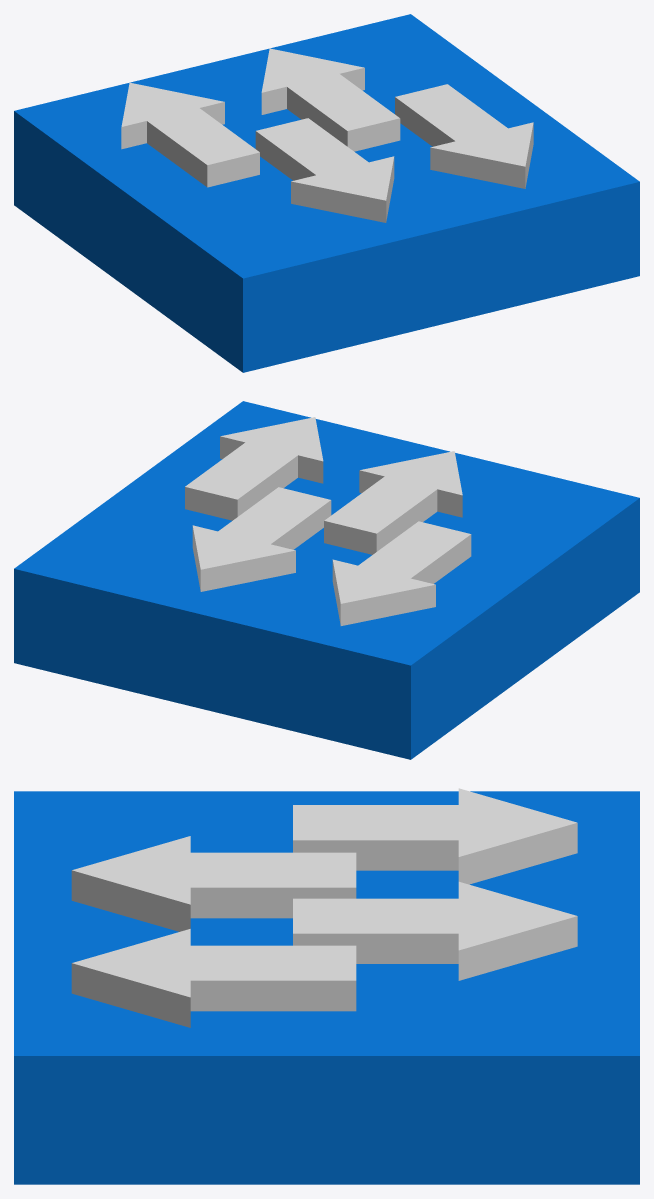
Rendered from leaf.glb.
3 renders of one model, top to bottom at view 1: azimuth 30°, elevation 25°; view 2: azimuth 150°, elevation 25°; view 3: azimuth 270°, elevation 25°, orthographic. The views are drawn at different scales.
Parts seen in each view (by area): view 1: Cube, Cube.003, Cube.002, Cube.001, Cube.004; view 2: Cube, Cube.003, Cube.004, Cube.002, Cube.001; view 3: Cube, Cube.001, Cube.002, Cube.004, Cube.003.
Boxes of the visible parts, left/top/right/bottom form: Cube: left=14, top=14, right=639, bottom=372; Cube.003: left=121, top=82, right=259, bottom=187; Cube.002: left=255, top=118, right=394, bottom=222; Cube.001: left=395, top=84, right=533, bottom=188; Cube.004: left=261, top=48, right=400, bottom=151; Cube: left=14, top=401, right=639, bottom=759; Cube.003: left=332, top=521, right=471, bottom=625; Cube.004: left=192, top=487, right=331, bottom=591; Cube.002: left=324, top=451, right=462, bottom=554; Cube.001: left=185, top=417, right=323, bottom=520; Cube: left=14, top=791, right=639, bottom=1184; Cube.001: left=71, top=929, right=356, bottom=1027; Cube.002: left=71, top=836, right=356, bottom=931; Cube.004: left=293, top=881, right=577, bottom=980; Cube.003: left=293, top=788, right=577, bottom=884.
Bounding box in the file's own units: 2 × 0.5618 × 2.
